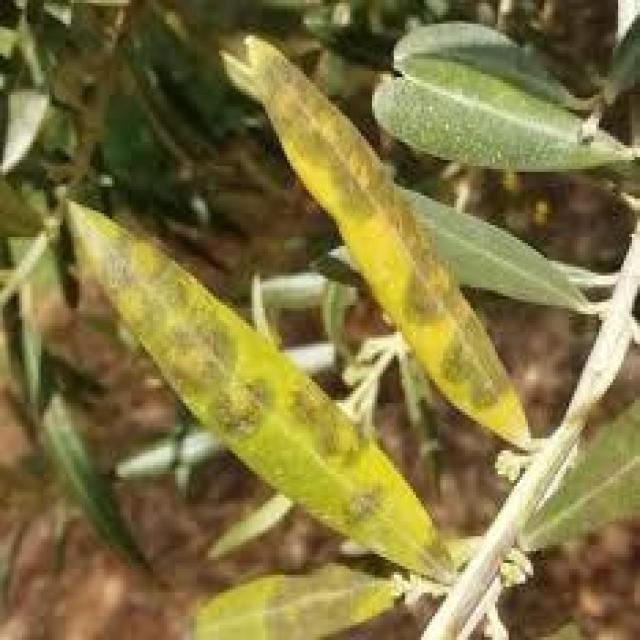OlivePeacockSpot: (79, 204, 443, 566), (255, 41, 522, 438)
